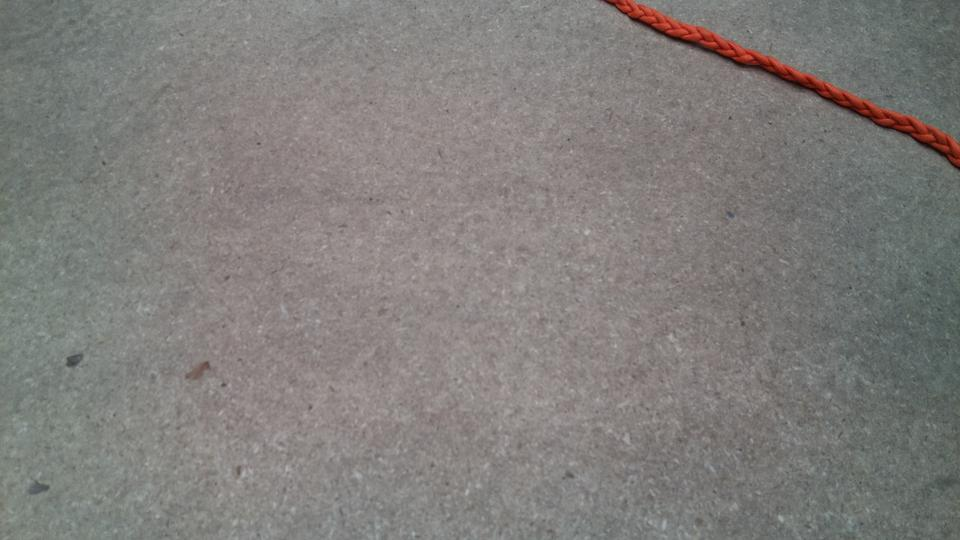rope: (625, 1, 960, 156)
